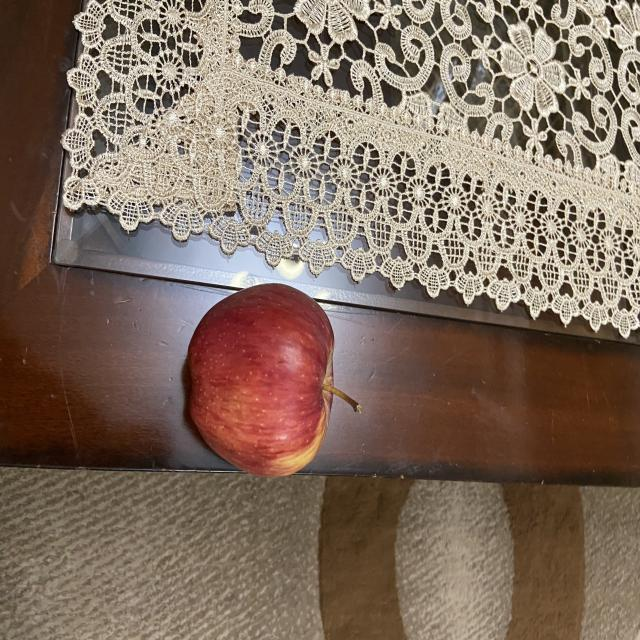apple: (182, 282, 364, 483)
